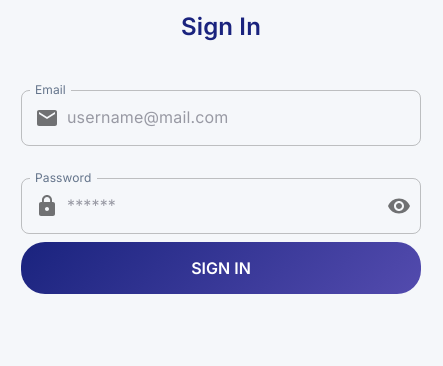
LoginForm Component › Form Validation › should show error for password less than 6 characters
Type "12345" into the password field with placeholder "******".
click(219, 206); type("12345")  # box x1=67 y1=178 x2=371 y2=234
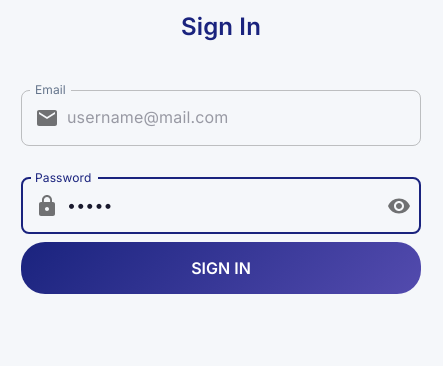
Click the button "Sign In".
click(221, 268)  # box x1=21 y1=242 x2=421 y2=294
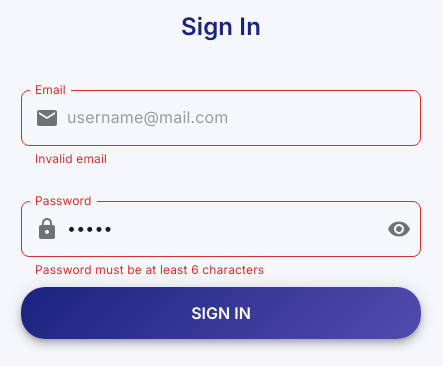
Expected: the text "Password must be at least 6 characters" is shown, x1=35 y1=262 x2=264 y2=276
